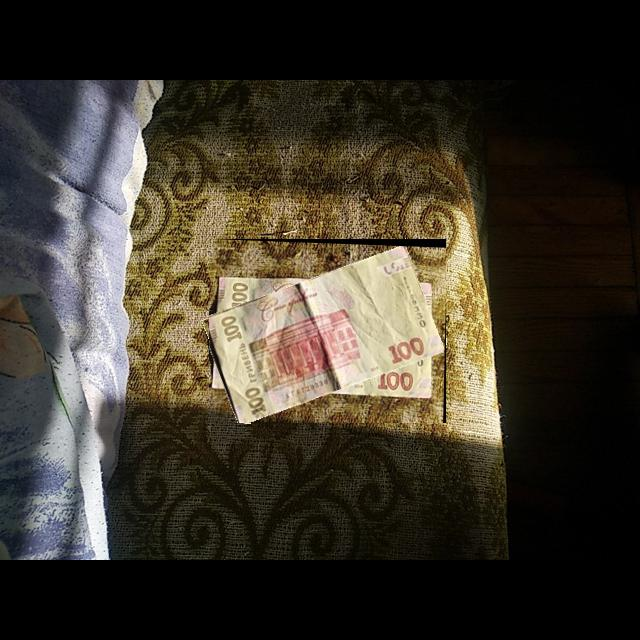100uah: (209, 245, 446, 424)
